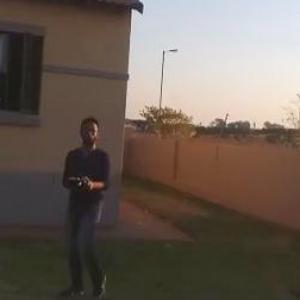follow: (50, 112, 114, 299)
